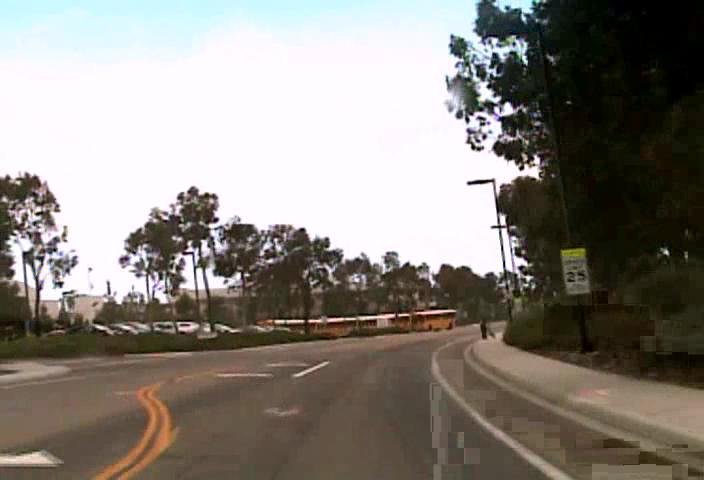schoolSpeedLimit25: (560, 247, 591, 295)
